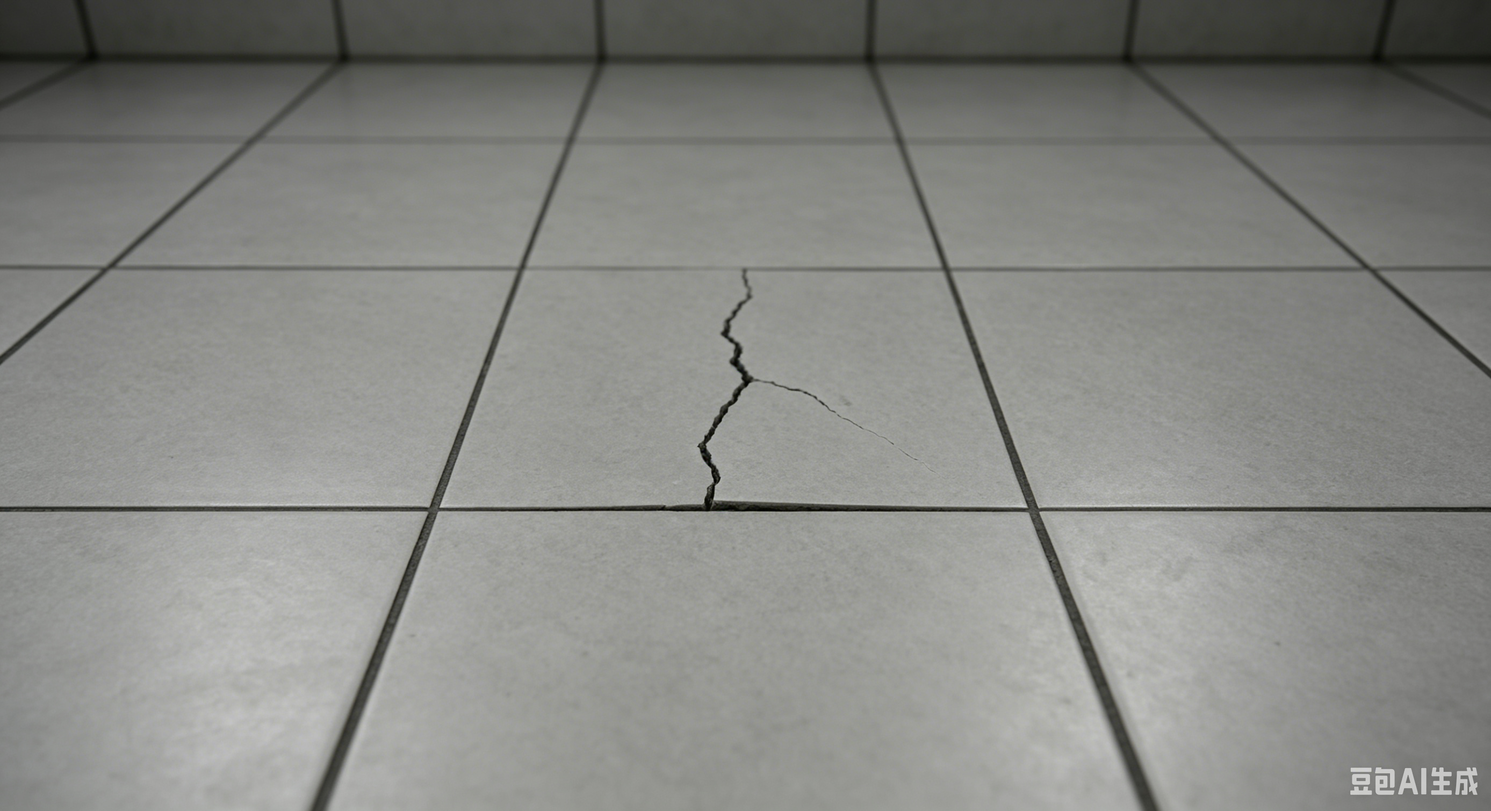floor_defect: (695, 260, 763, 505), (839, 403, 927, 466), (769, 363, 833, 414)
